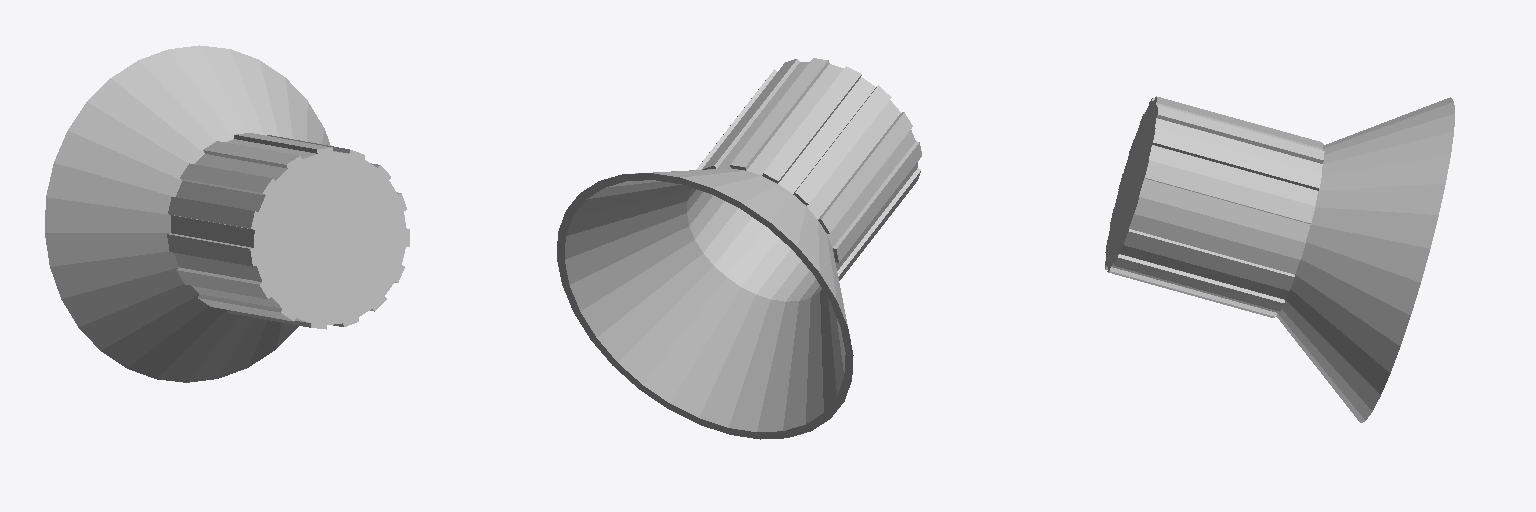
File: bulbHolder.obj
3 renders of one model, left to right at view 1: azimuth 30°, elevation 25°; view 2: azimuth 150°, elevation 25°; view 3: azimuth 270°, elevation 25°, orthographic.
Parts seen in each view (by area): view 1: bulbHolderReflect_Cylinder.005; view 2: bulbHolderReflect_Cylinder.005; view 3: bulbHolderReflect_Cylinder.005.
Part boxes in pixels (left/top/right/bottom): bulbHolderReflect_Cylinder.005: left=45, top=45, right=409, bottom=382; bulbHolderReflect_Cylinder.005: left=557, top=58, right=921, bottom=439; bulbHolderReflect_Cylinder.005: left=1105, top=96, right=1454, bottom=422.
Size of the model in its own units: 0.5512 by 0.5453 by 0.5737.